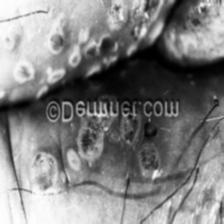Toxin: (69, 28, 114, 68), (25, 154, 58, 192), (46, 16, 66, 56), (12, 58, 34, 84)
